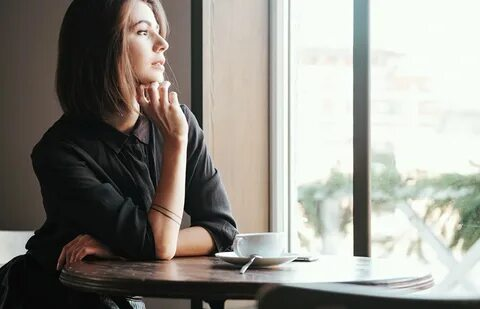awake: (28, 1, 239, 263)
